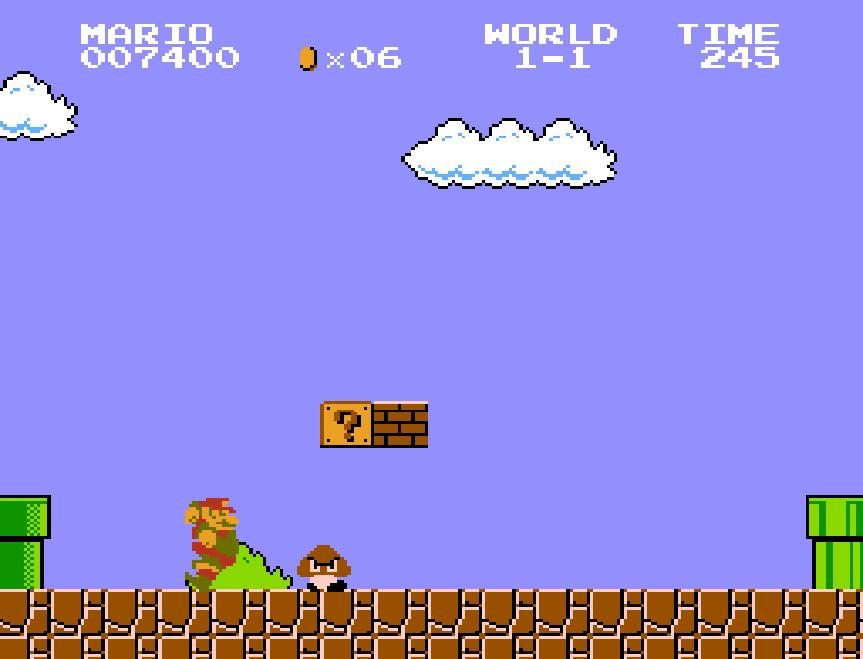big_mario: (183, 496, 240, 594)
